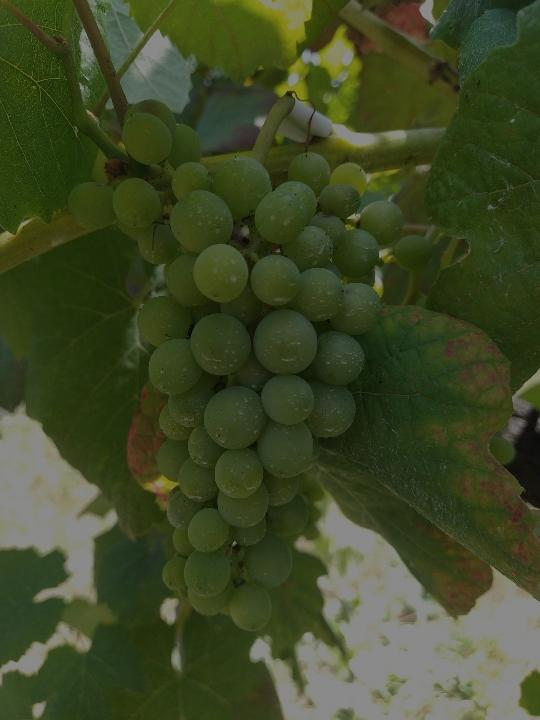grape: (58, 96, 430, 638)
